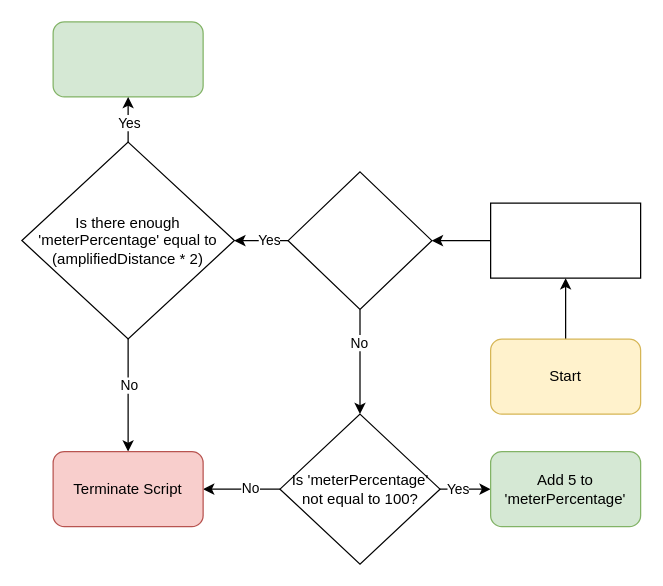
Some shapes in this 663 by 586 pixel diagram are drawn without their labels. The box of each missing label's shape, as (x1, y1, x2, y2) in pixels:
Every FixedUpdate, check: (489, 202, 641, 278)
Is 'slingshotFired' true?: (287, 171, 432, 309)
Subtract (amplifiedDistance * 2) from 'meterPercentage': (52, 21, 203, 97)
